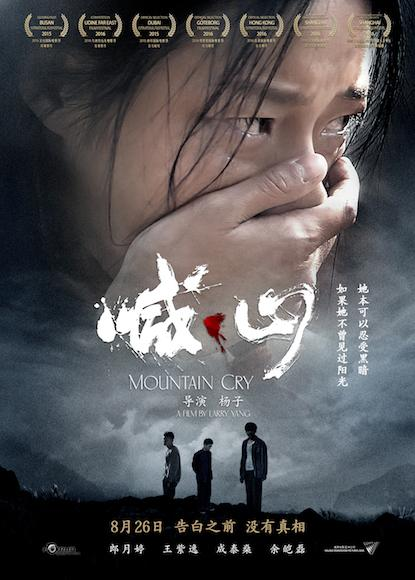face: (134, 1, 372, 351)
